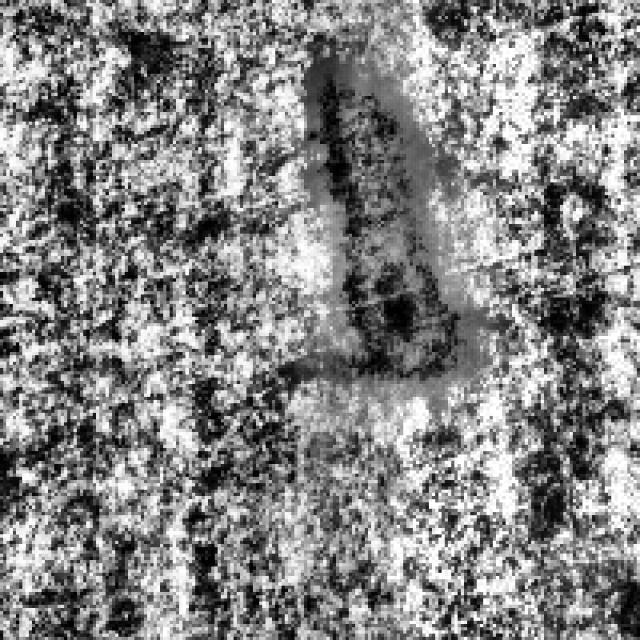Scratches: (282, 54, 476, 381)
